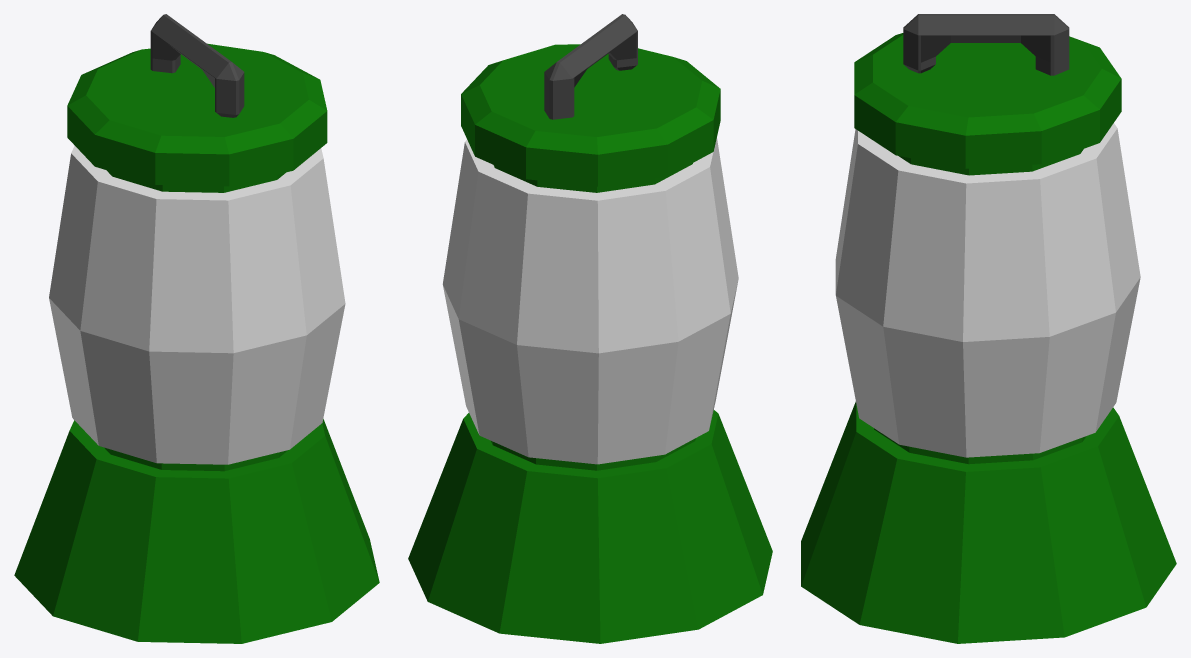
Rendered from lantern.fbx.
3 views of the same model, side by side, from view 1: azimuth 30°, elevation 25°; view 2: azimuth 150°, elevation 25°; view 3: azimuth 270°, elevation 25° (orthographic). The views are drawn at different scales.
Visible parts, largest first — view 1: Lantern_LOD0; view 2: Lantern_LOD0; view 3: Lantern_LOD0.
Boxes of the visible parts, bbox=[...] form: Lantern_LOD0: bbox=[14, 14, 379, 643]; Lantern_LOD0: bbox=[408, 14, 772, 643]; Lantern_LOD0: bbox=[801, 14, 1176, 643].
Size of what is drawn, in the model's own units: 17.1 by 27.3 by 16.93.
